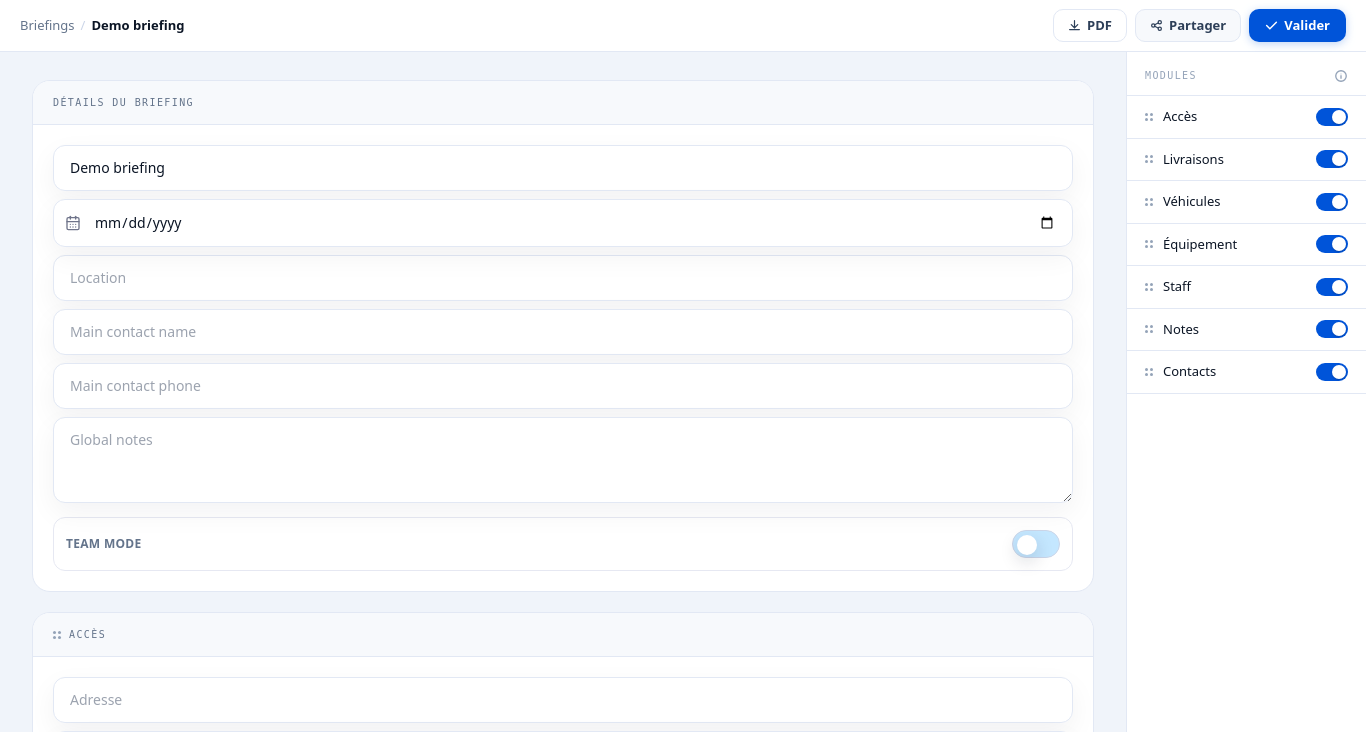
BriefingEditor › opens share drawer and loads links for the current briefing
Click the button "Partager".
click(1188, 26)  # box [1135, 9, 1241, 42]
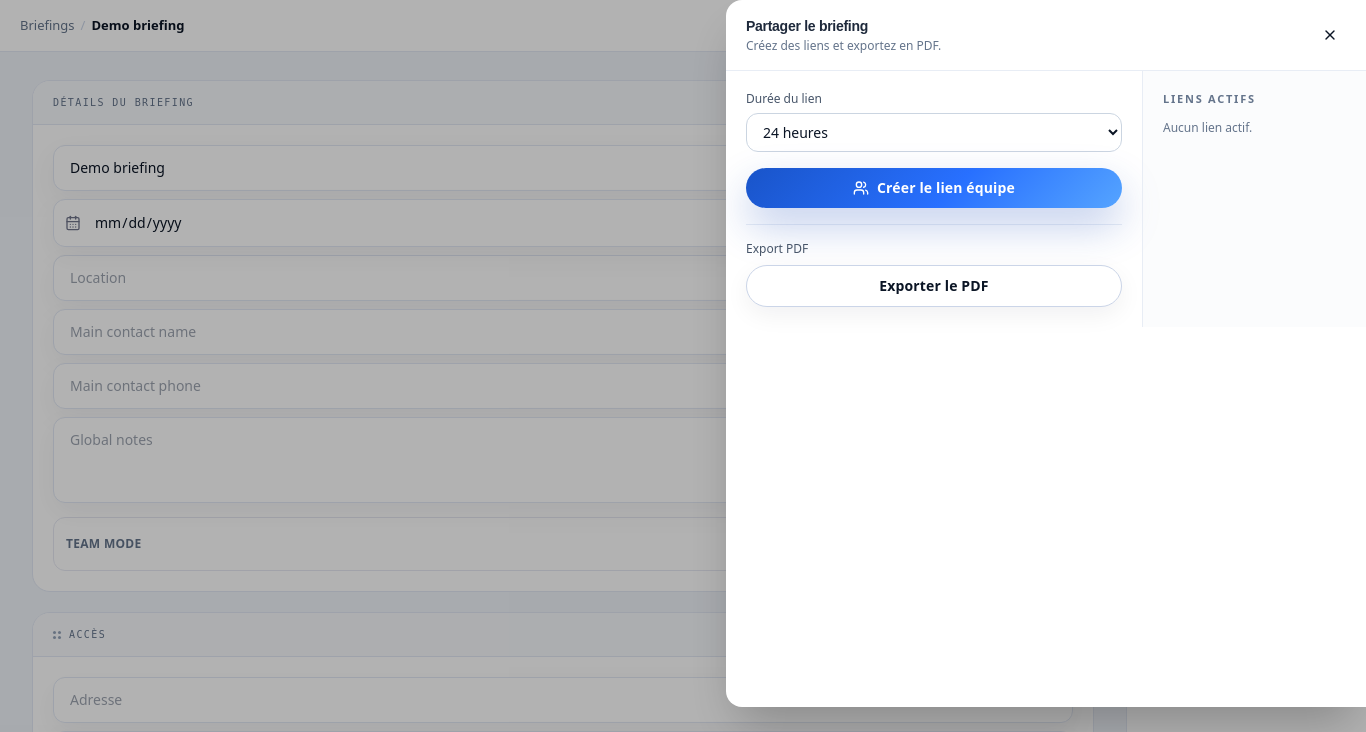
Expected: the heading "Partager le briefing" is shown, [746, 18, 868, 34]
